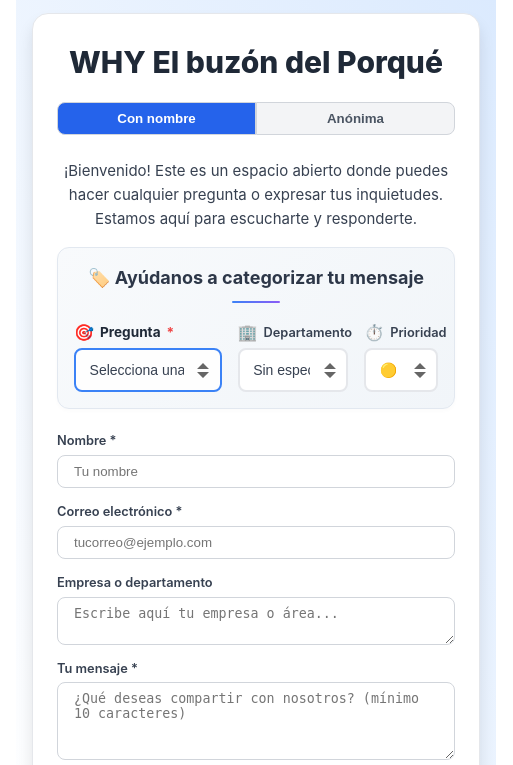
Test case: InicioPlataformaWhy › Validaciones de campos › Validación de mensaje › debe validar mensaje muy corto
Type "Hola" into the text box with placeholder "¿Qué deseas compartir con nosotros? (mínimo 10 caracteres)" at (256, 721), box [57, 682, 455, 760]
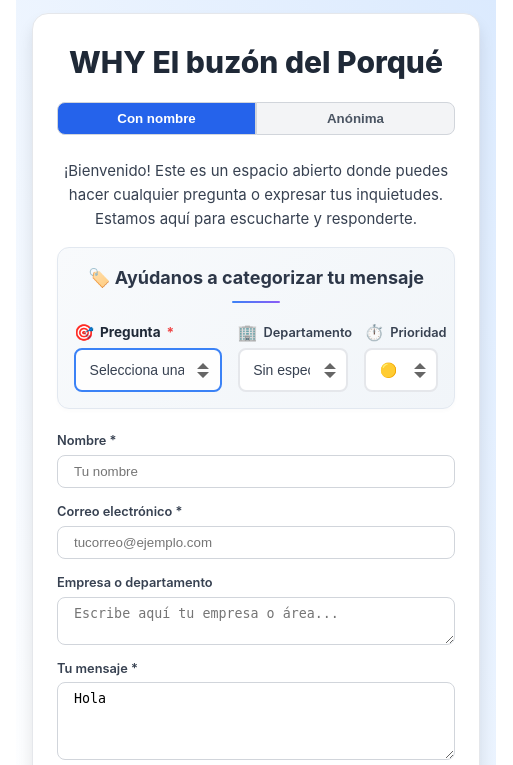
Leave the 2nd text box, box [57, 682, 455, 760]
(page scrolled)
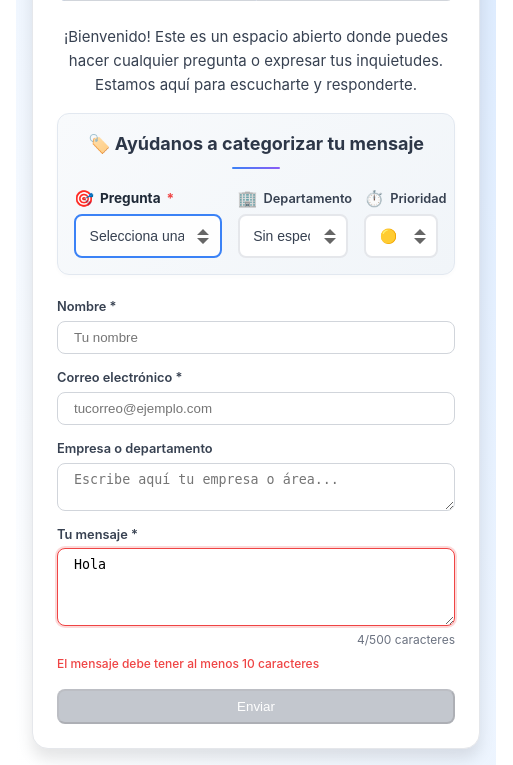
Check: the text "El mensaje debe tener al menos 10 caracteres" is shown, box [57, 656, 319, 670]
